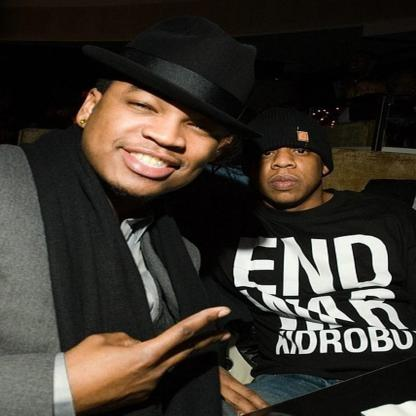face: (97, 67, 225, 197), (251, 137, 326, 204)
